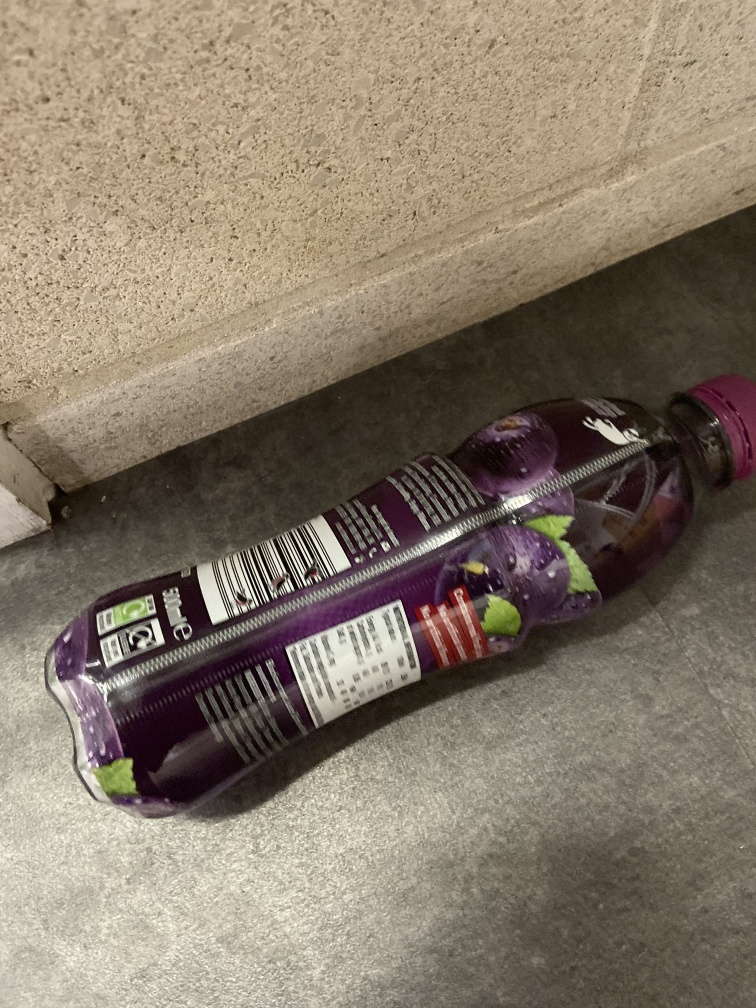bottle_purple: (37, 371, 756, 826)
